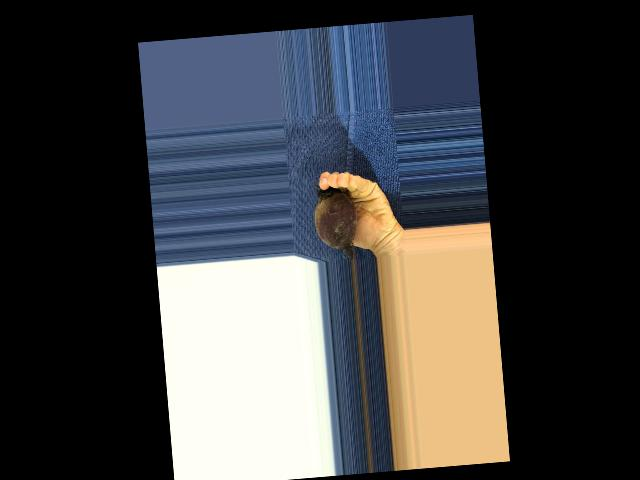beet: (312, 180, 361, 261)
